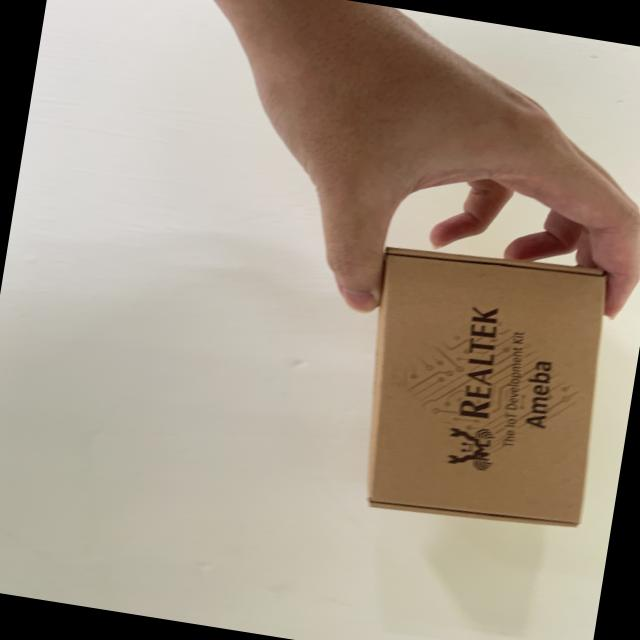box: (343, 222, 640, 549)
